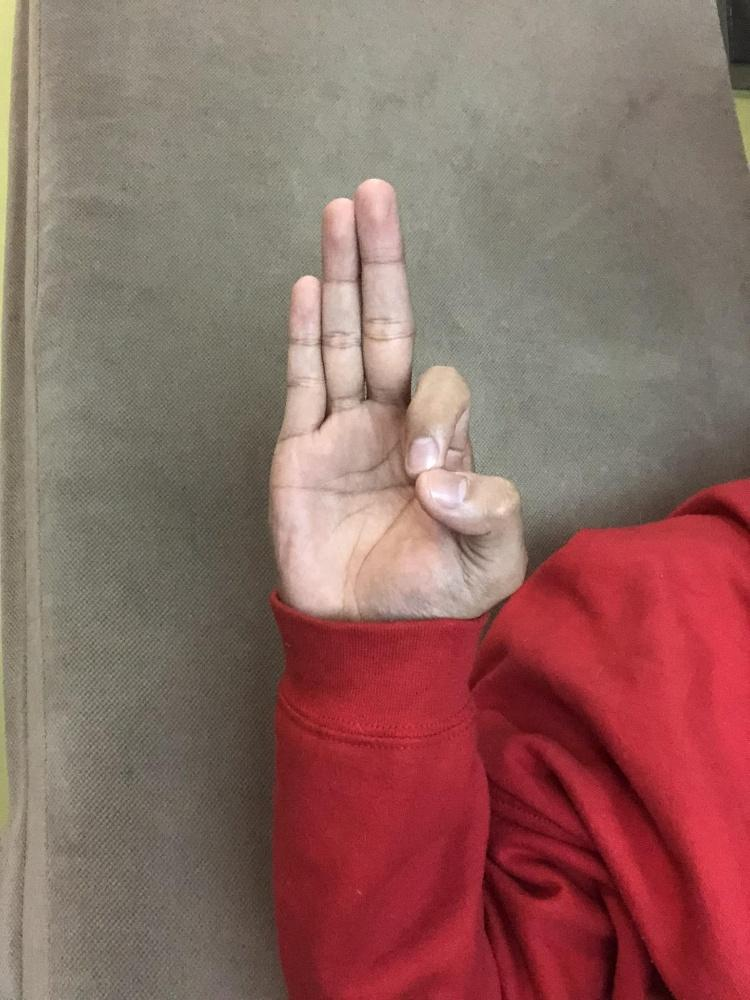f: (263, 171, 531, 619)
